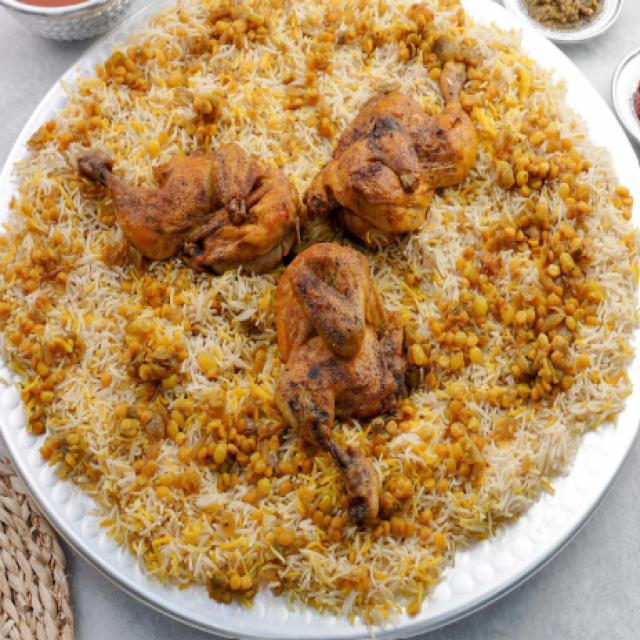Machboos: (54, 44, 569, 560)
